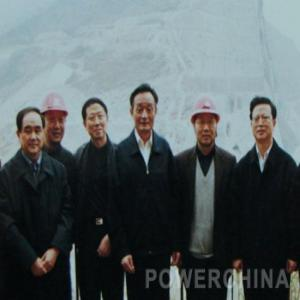none: (16, 107, 48, 157), (129, 85, 160, 135), (249, 97, 279, 146), (83, 100, 111, 144)
red: (191, 94, 222, 149), (40, 93, 69, 146)
